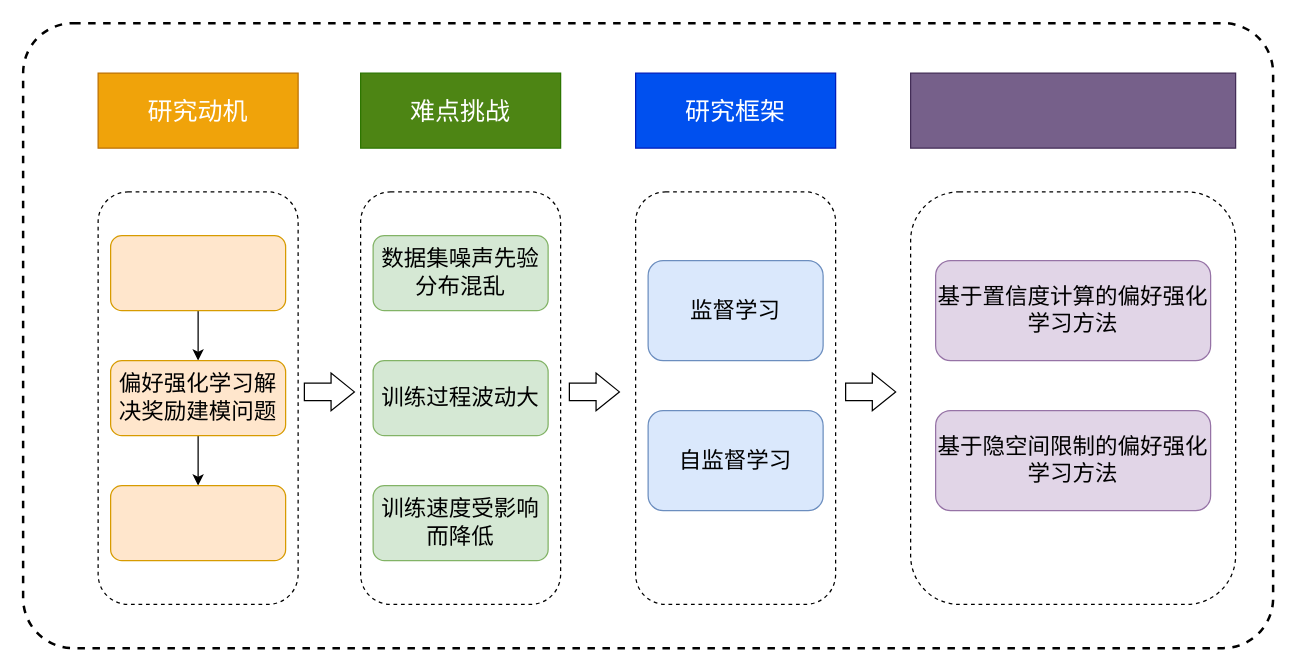
Some shapes in this 1295 by 670 pixel diagram are drawn without their labels. The shapes that lost their labels are listed below. From the top down, each one's centre as x and y in pixels, then its label:
pixel 1072 110: 研究内容
pixel 197 272: 强化学习奖励函数建模困难
pixel 197 522: 数据集难以同时保证数量和质量
